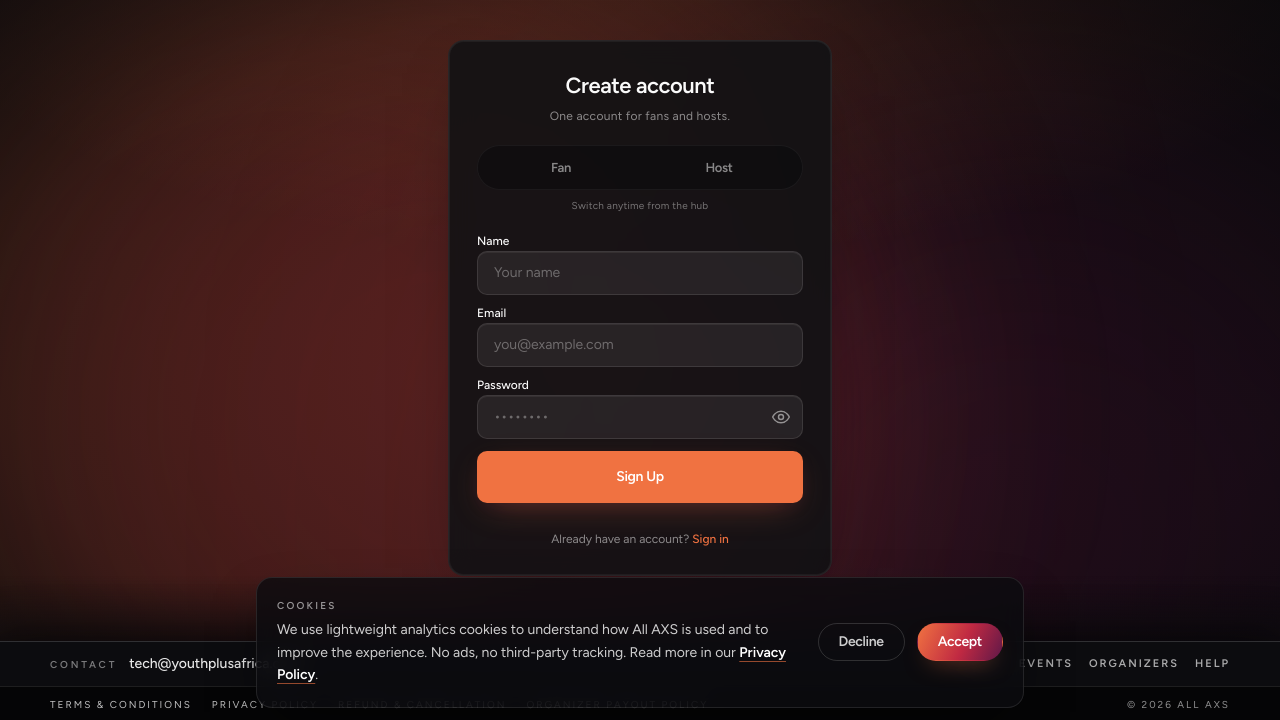
Register Page › should show validation error for password that is too short
Step 1. Type "John Doe" into the field named "name" → {"x": 640, "y": 273}, box [477,251,803,295]
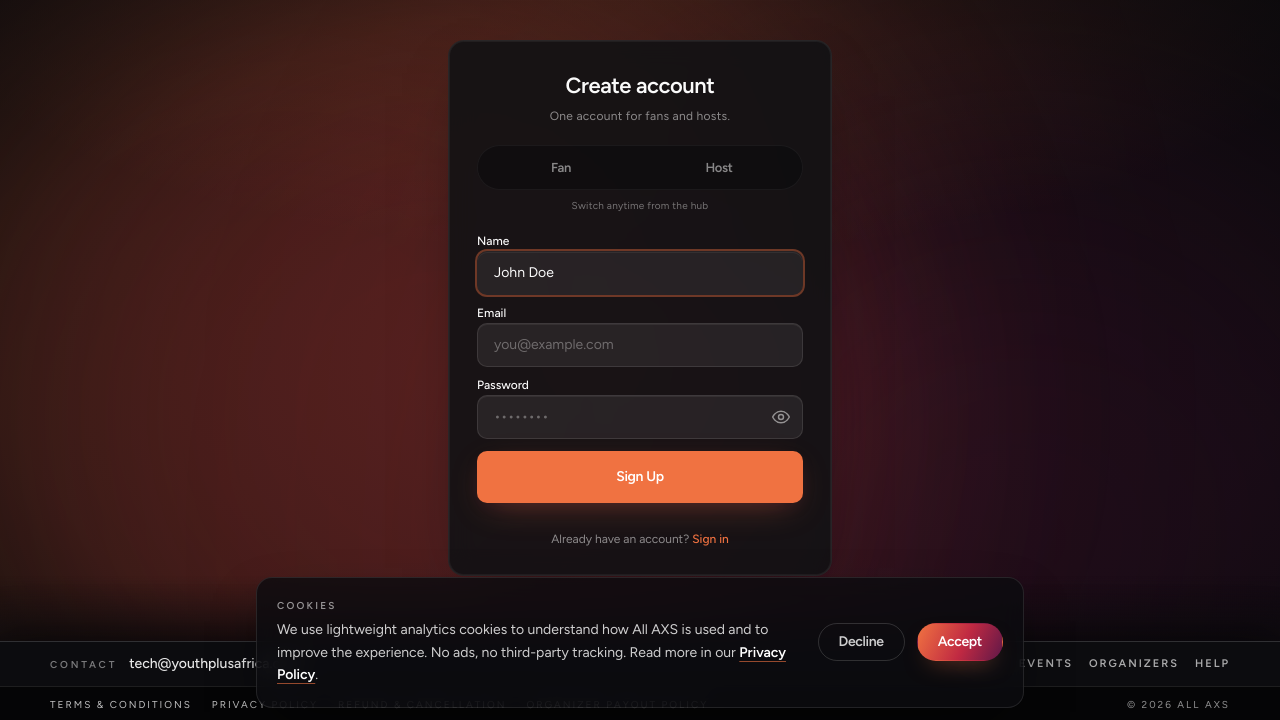
Step 2. Type "test@example.com" into the field labelled "Email" → {"x": 640, "y": 345}, box [477,323,803,367]
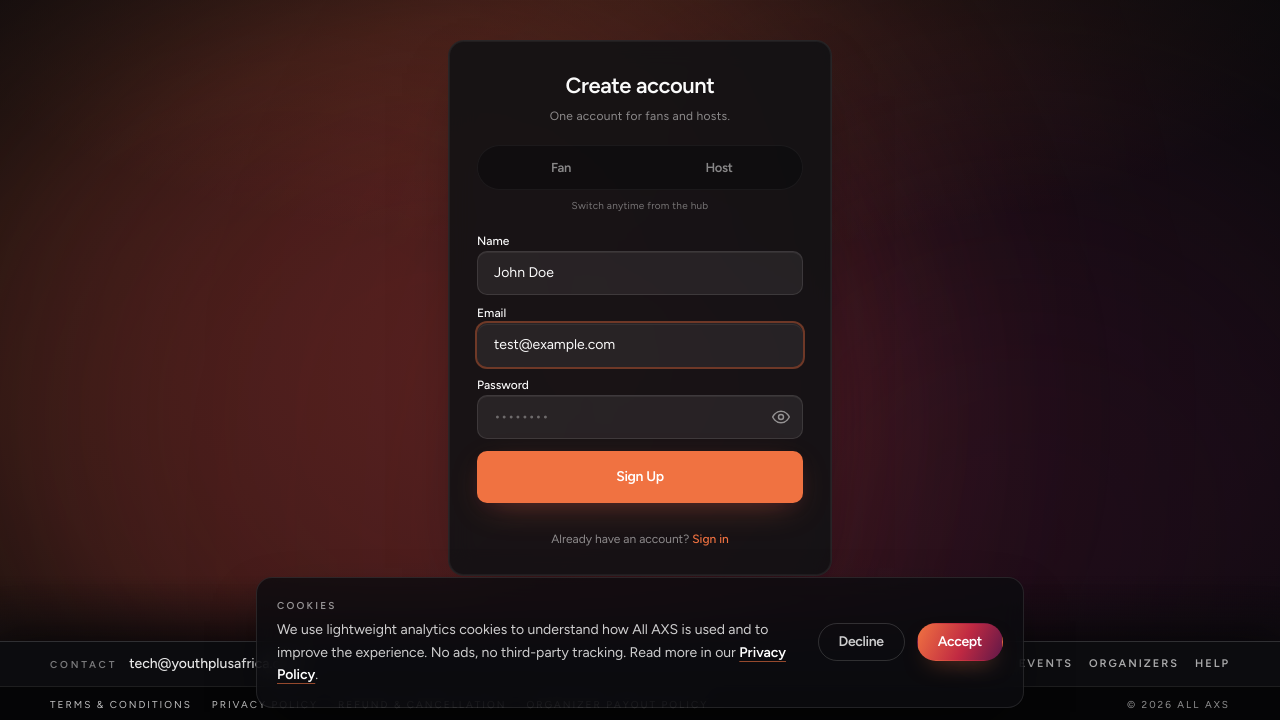
Step 3. Type "short" into the password field labelled "Password" → {"x": 640, "y": 417}, box [477,395,803,439]
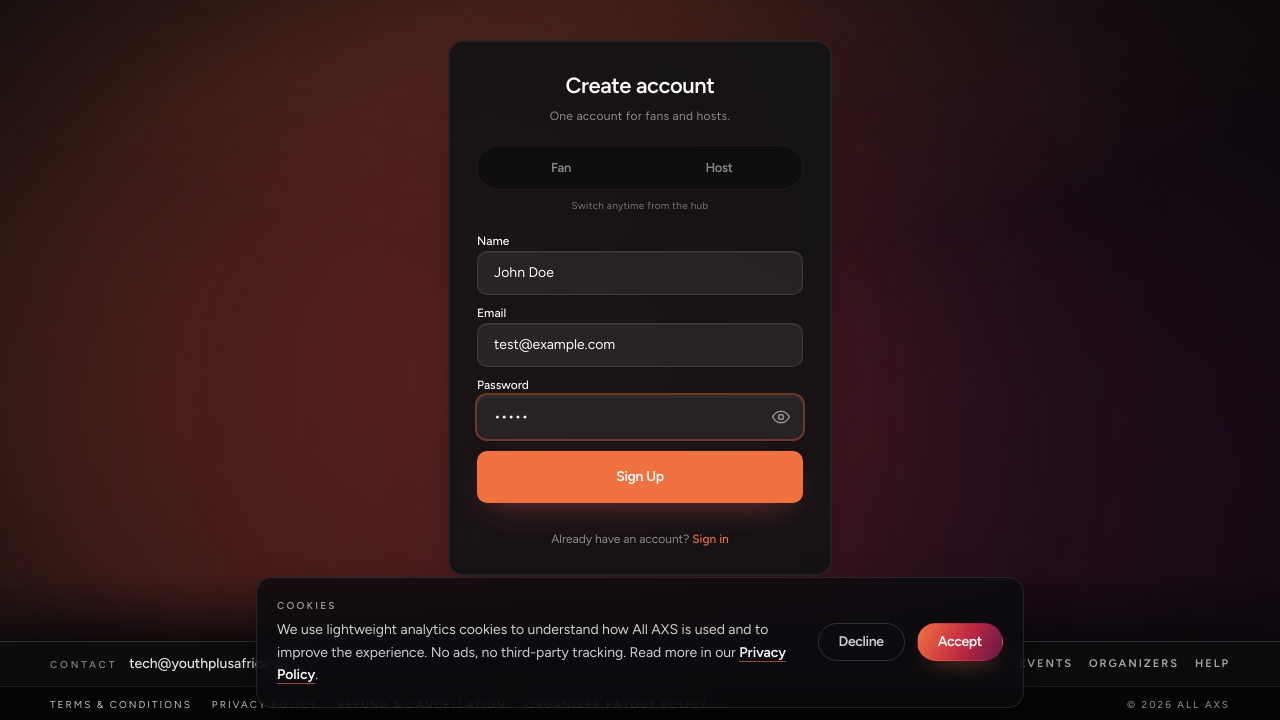
Step 4. Click the button "Sign Up" → {"x": 640, "y": 477}, box [477,451,803,503]
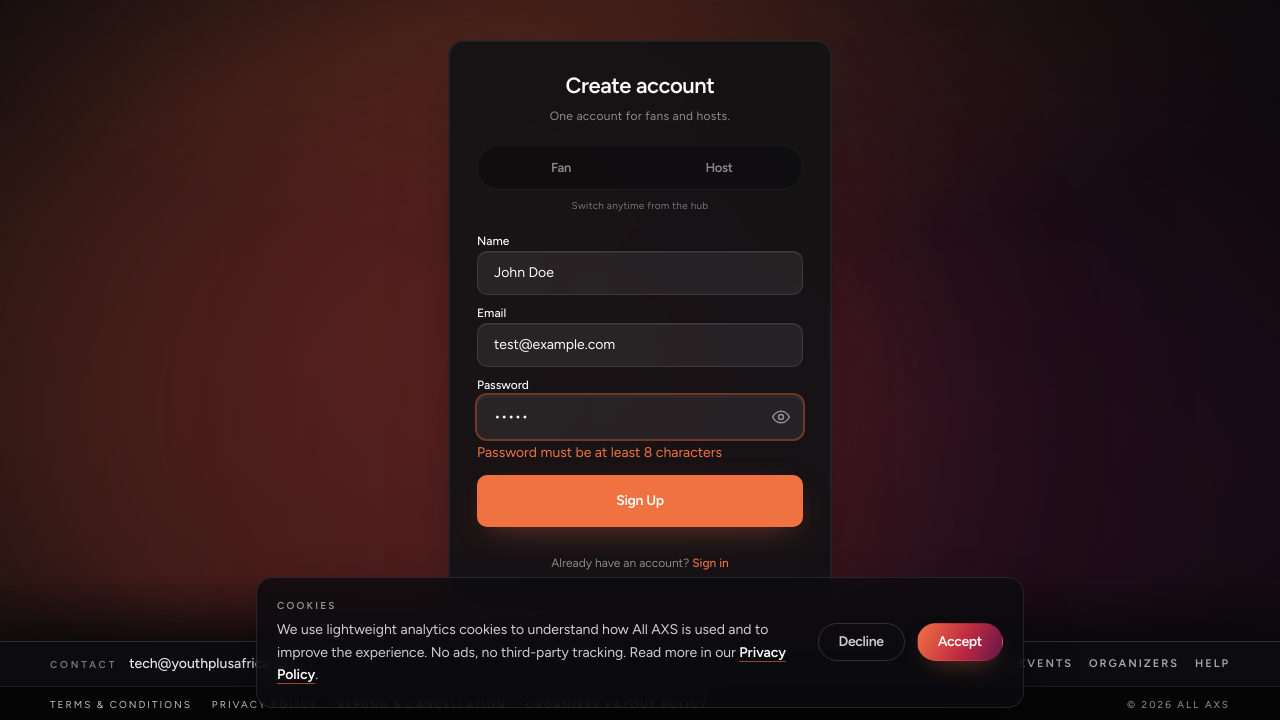
Check: the text "Password must be at least 8 characters" is shown, box [477,444,722,461]
